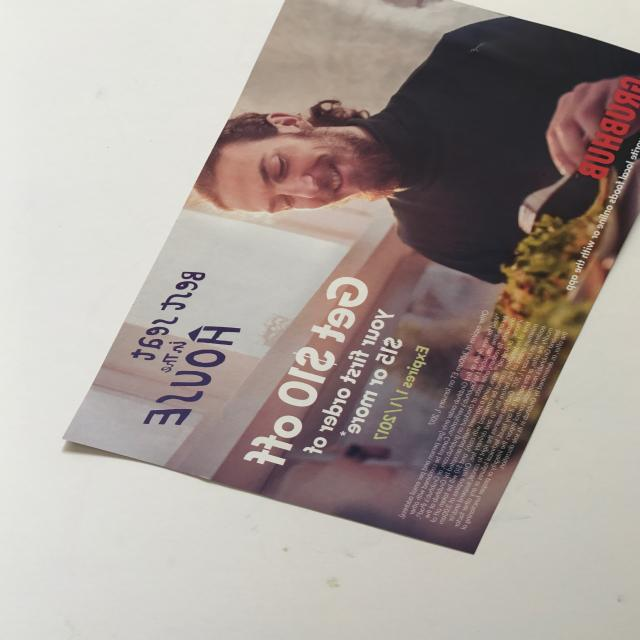paper: (38, 0, 640, 585)
